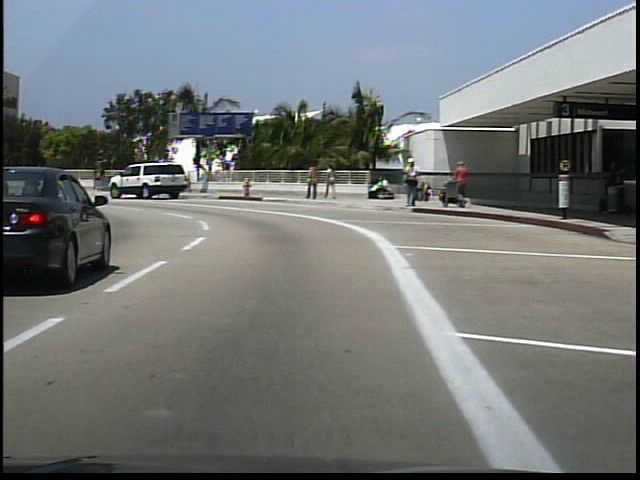person: (398, 157, 419, 214), (455, 158, 475, 210), (324, 162, 340, 205), (367, 176, 390, 203), (306, 162, 320, 203)
